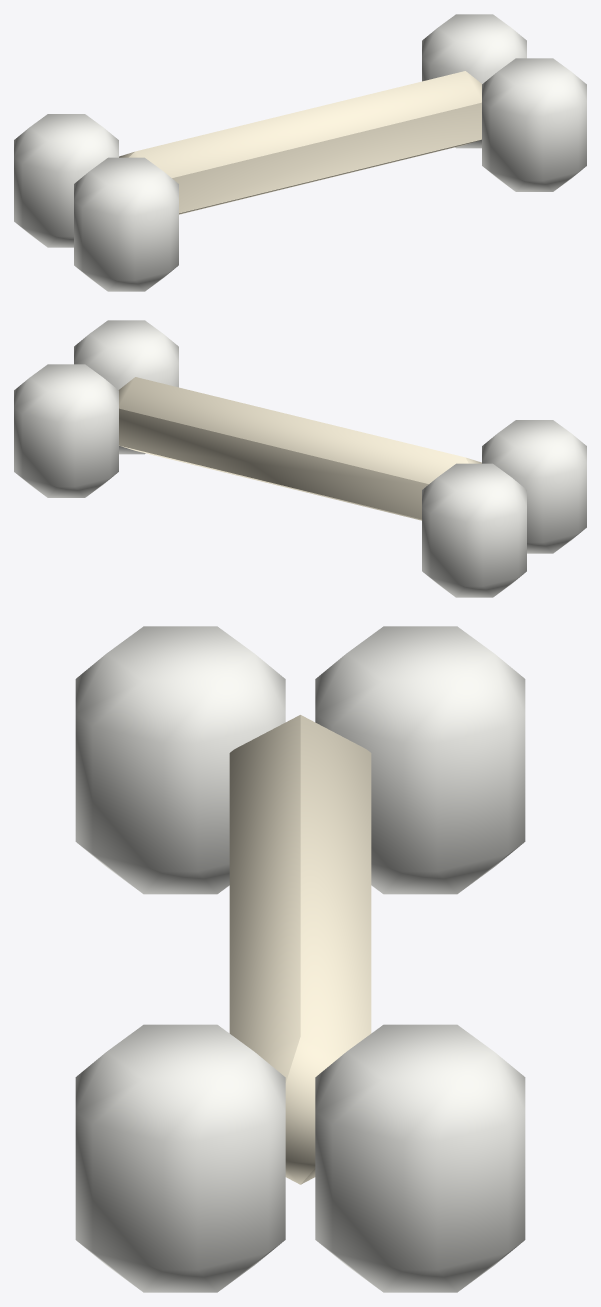
Rendered from P_MedSmallBone.fbx.
3 renders of one model, top to bottom at view 1: azimuth 30°, elevation 25°; view 2: azimuth 150°, elevation 25°; view 3: azimuth 270°, elevation 25°, orthographic. The views are drawn at different scales.
Visible parts, largest first — view 1: M_SmallBone; view 2: M_SmallBone; view 3: M_SmallBone.
Boxes of the visible parts, <box> form: M_SmallBone: <box>14,14,586,291</box>; M_SmallBone: <box>14,320,586,597</box>; M_SmallBone: <box>75,626,525,1292</box>.
Size of the model in its own units: 0.272 by 0.055 by 0.105.
Materials: 1 (1 with a texture image).
